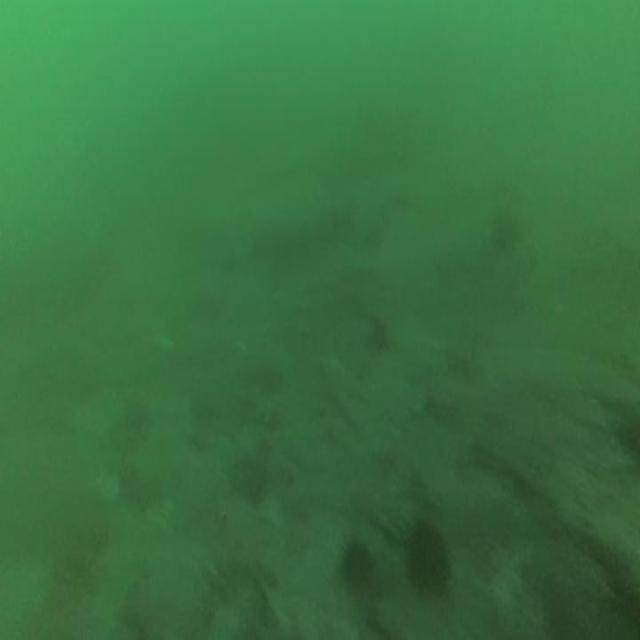echinus: (410, 526, 450, 590), (343, 540, 373, 592)
